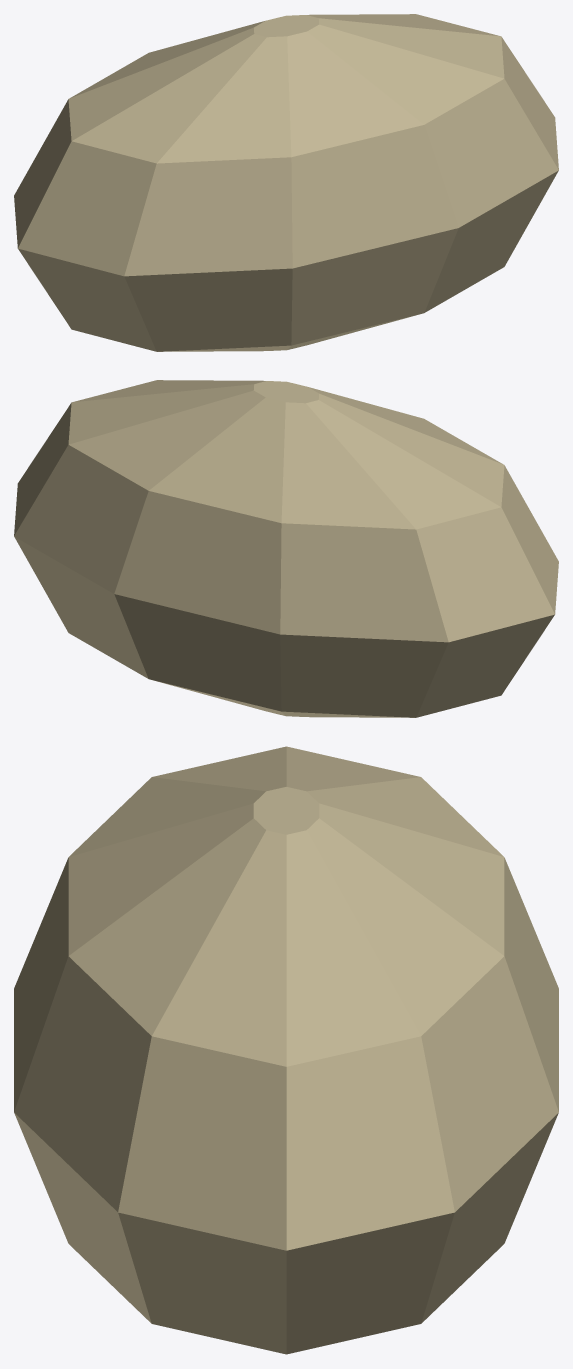
The model's file is breadDough.glb.
3 renders of one model, top to bottom at view 1: azimuth 30°, elevation 25°; view 2: azimuth 150°, elevation 25°; view 3: azimuth 270°, elevation 25°, orthographic. The views are drawn at different scales.
Parts seen in each view (by area): view 1: breadDough; view 2: breadDough; view 3: breadDough.
Part boxes in pixels (left/top/right/bottom): breadDough: left=14, top=14, right=558, bottom=351; breadDough: left=14, top=380, right=558, bottom=717; breadDough: left=14, top=746, right=558, bottom=1354.
Size of the model in its own units: 1 by 0.5581 by 0.5751.
